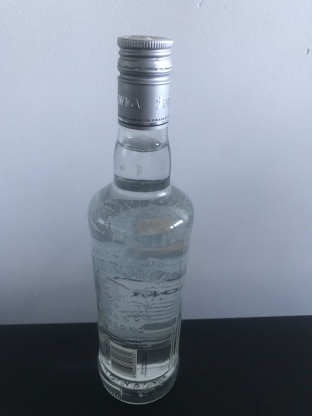nakretka: (115, 32, 175, 131)
